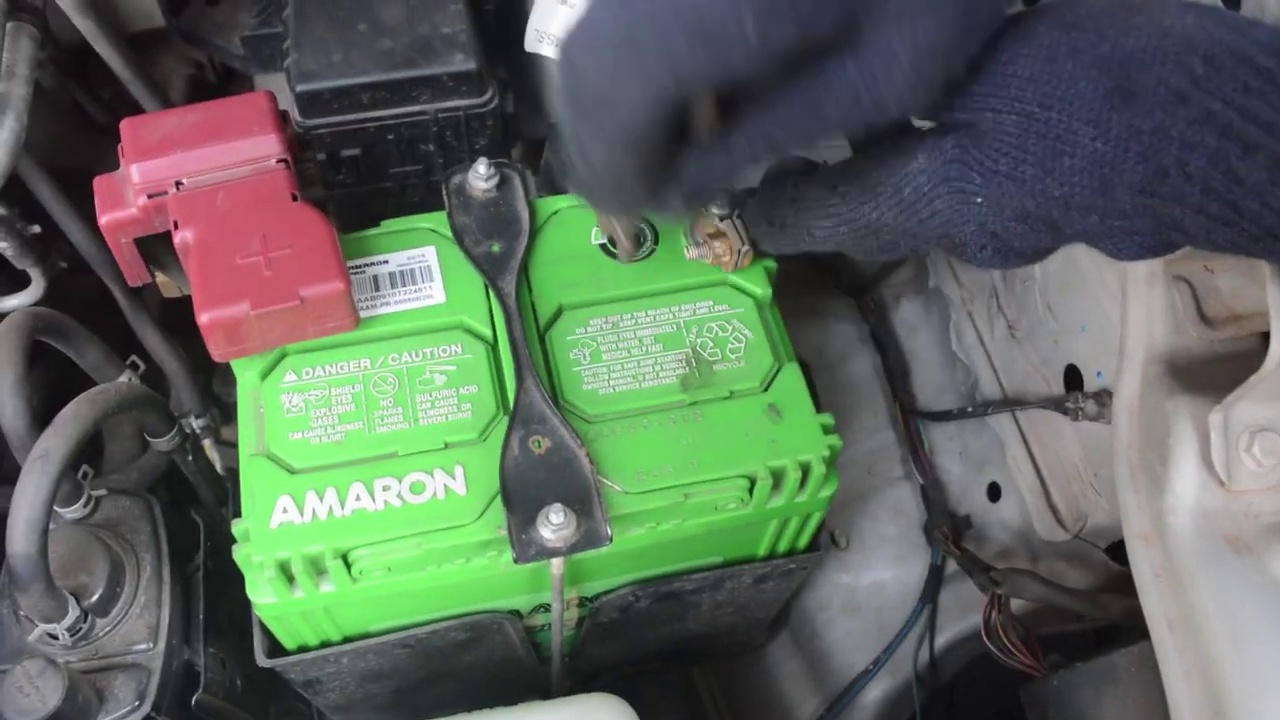battery: (218, 167, 843, 556)
neg_touched: (593, 110, 881, 278)
pos_connected: (71, 95, 372, 343)
